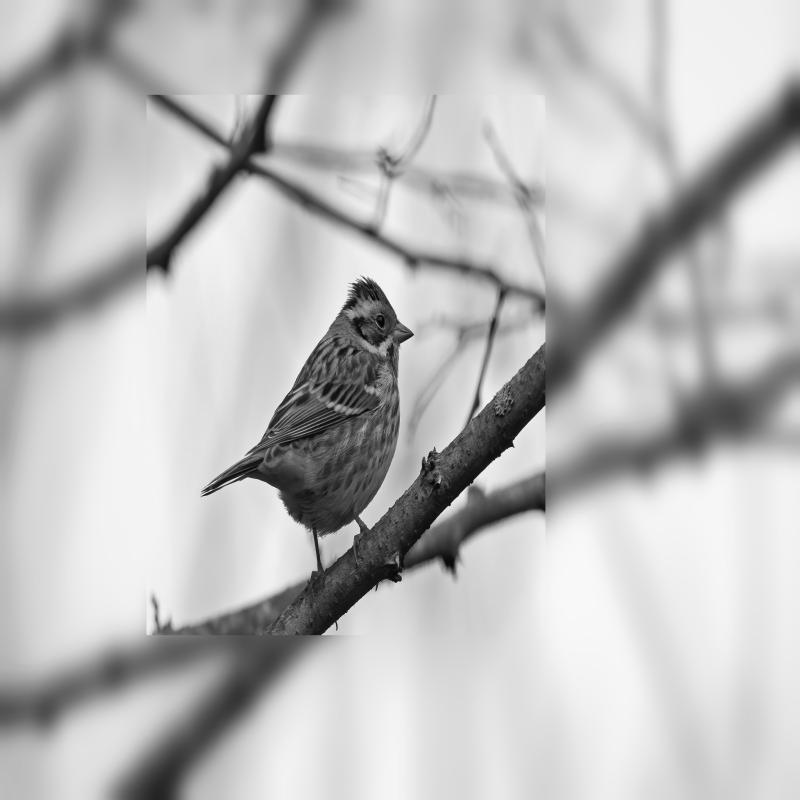rustic bunting: (201, 265, 422, 574)
